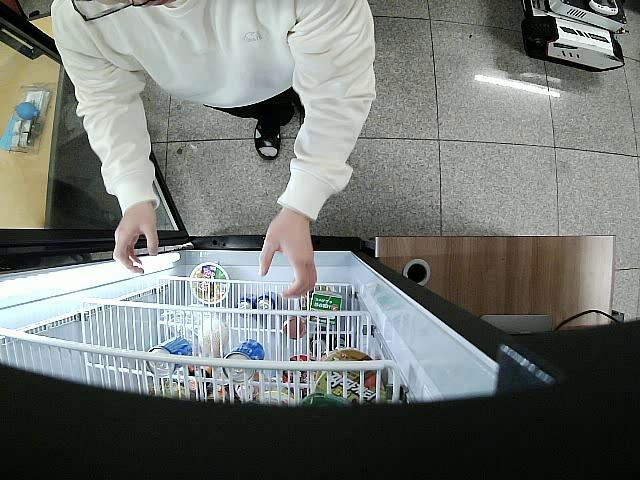00_hand: (258, 206, 318, 297), (111, 202, 159, 274)
